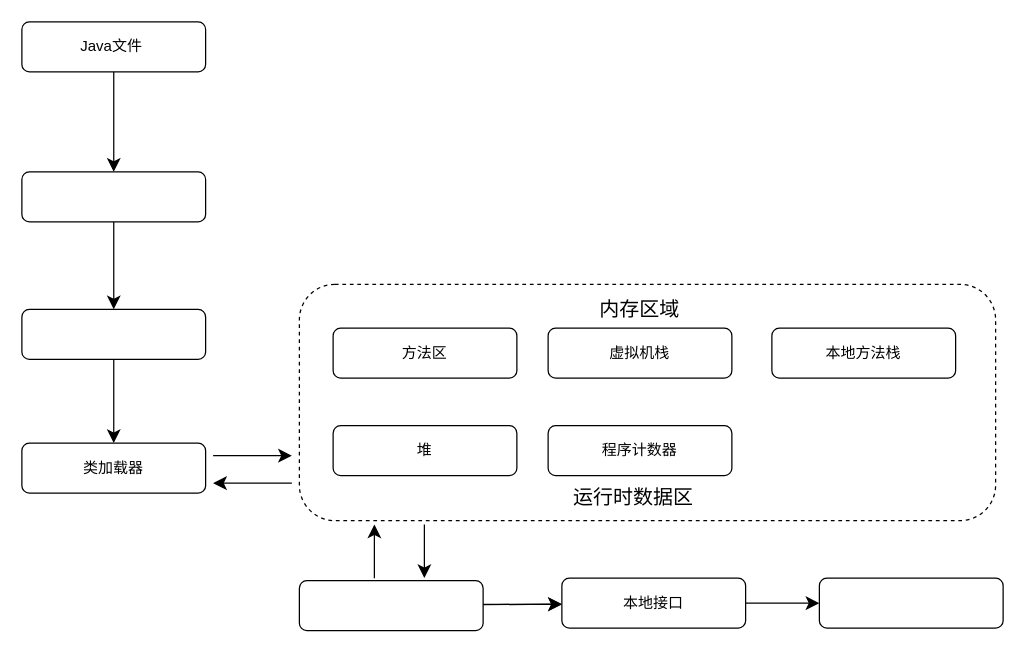
Some shapes in this 1025 by 653 pixel diagram are drawn without their labels. Each missing label, with the box of its shape:
.Class 文件: (21, 308, 206, 359)
Java源码编译器: (21, 171, 206, 222)
执行引擎: (298, 579, 483, 631)
本地方法库: (818, 577, 1003, 628)
